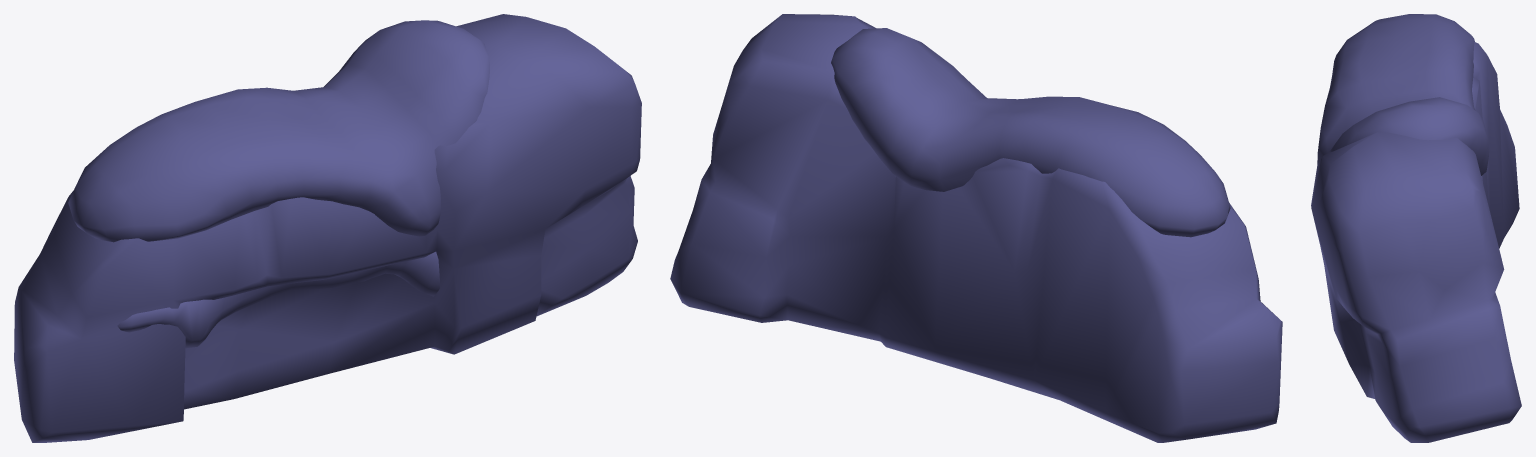
Rendered from RuinsWall_5.fbx.
The picture shows the model from 3 angles, left to right: view 1: azimuth 30°, elevation 25°; view 2: azimuth 150°, elevation 25°; view 3: azimuth 270°, elevation 25°; orthographic projection. The views are drawn at different scales.
Parts seen in each view (by area): view 1: RuinsWall_5; view 2: RuinsWall_5; view 3: RuinsWall_5.
Part boxes in pixels (bbox=[...]): RuinsWall_5: bbox=[14, 14, 641, 442]; RuinsWall_5: bbox=[670, 14, 1282, 442]; RuinsWall_5: bbox=[1311, 14, 1521, 442].
Bounding box in the file's own units: 516 × 251 × 169.
